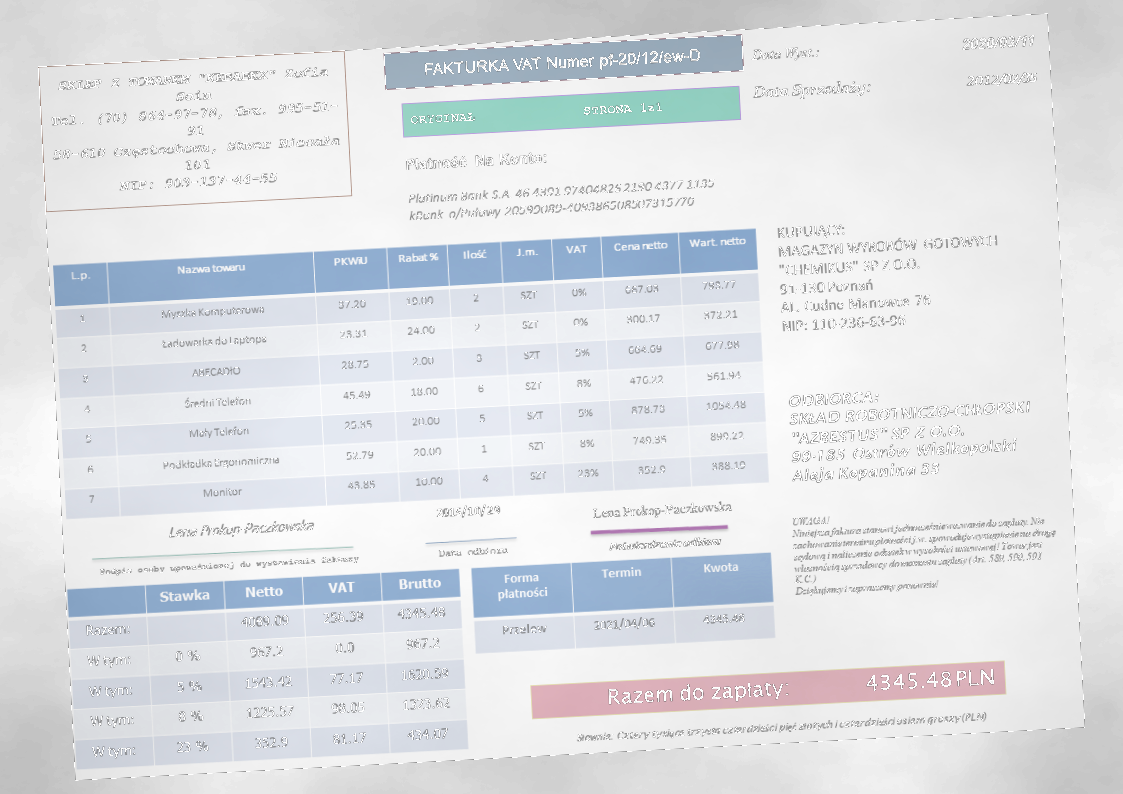Table: (50, 227, 771, 521), (66, 567, 471, 772), (470, 551, 777, 655)
TextBox: (44, 63, 345, 196), (774, 211, 1005, 335), (789, 501, 1062, 599), (786, 380, 1035, 486), (606, 665, 996, 710), (404, 174, 718, 224), (575, 709, 990, 745), (421, 43, 705, 81), (409, 99, 666, 127), (97, 553, 361, 578), (166, 516, 317, 542), (403, 148, 550, 174), (589, 497, 732, 522), (751, 78, 874, 103), (606, 533, 722, 553), (960, 32, 1037, 53), (964, 69, 1039, 89), (750, 43, 821, 64), (434, 501, 503, 522), (436, 543, 509, 560)
